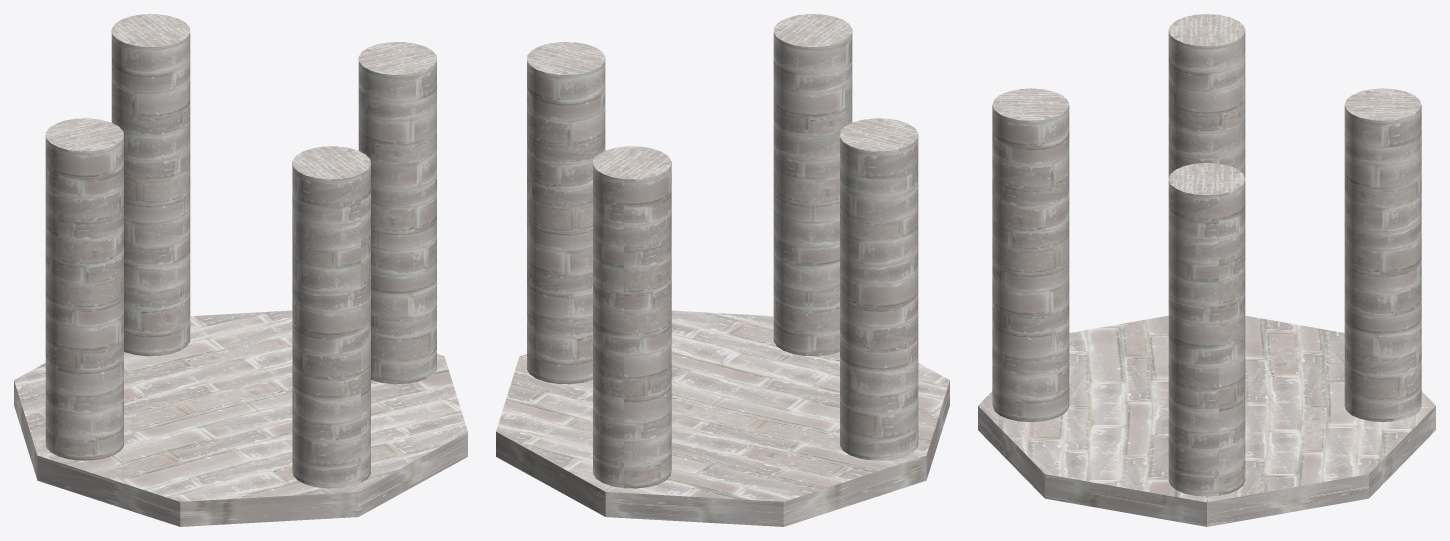
The model's file is pillar.gltf.
3 renders of one model, left to right at view 1: azimuth 30°, elevation 25°; view 2: azimuth 150°, elevation 25°; view 3: azimuth 270°, elevation 25°, orthographic. The views are drawn at different scales.
Visible parts, largest first — view 1: pCylinder13; view 2: pCylinder13; view 3: pCylinder13.
Boxes of the visible parts, box(x1,y1,x2,y2) form: pCylinder13: box(14, 14, 467, 526); pCylinder13: box(496, 14, 949, 526); pCylinder13: box(978, 14, 1435, 526).
Bounding box in the file's own units: 0.7783 × 0.6108 × 0.7783.
Materials: 1 (1 with a texture image).
